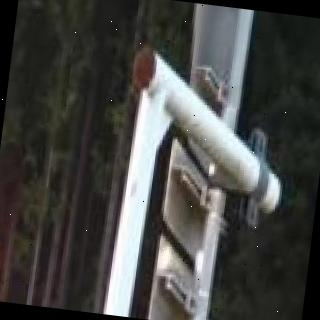fire: (0, 58, 20, 300)
